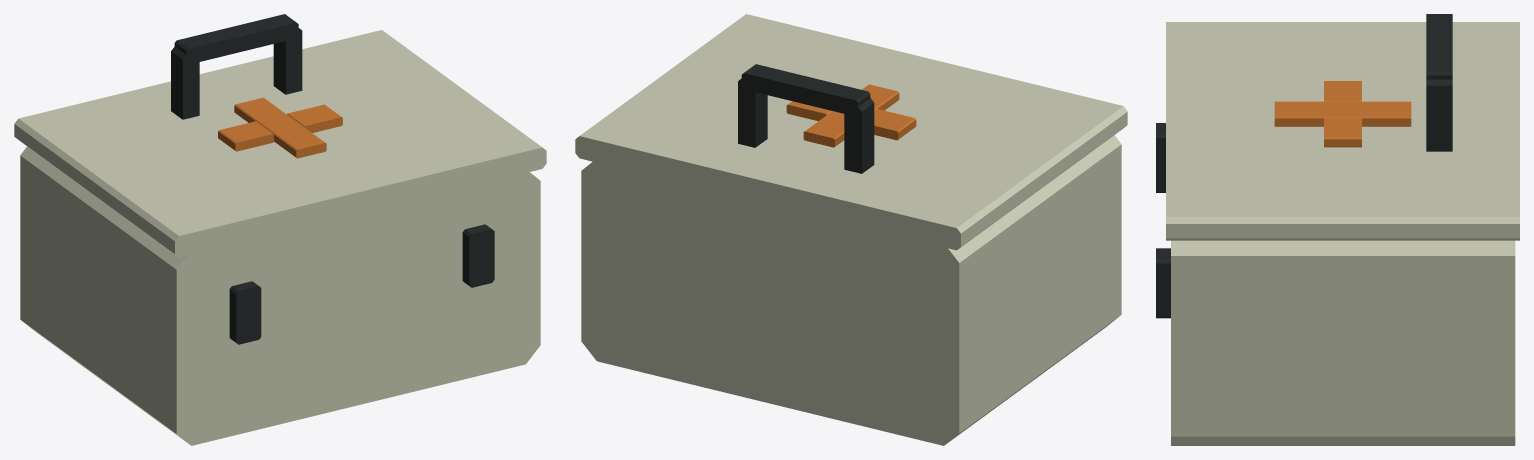
The model's file is Medicine.gltf.
The picture shows the model from 3 angles, left to right: view 1: azimuth 30°, elevation 25°; view 2: azimuth 150°, elevation 25°; view 3: azimuth 270°, elevation 25°; orthographic projection. The views are drawn at different scales.
Visible parts, largest first — view 1: Medicine; view 2: Medicine; view 3: Medicine.
Part boxes in pixels (x1,y1,x2,y2): Medicine: (14,14,546,445); Medicine: (575,14,1127,445); Medicine: (1156,14,1519,445).
Size of the model in its own units: 0.398 by 0.291 by 0.3065.
